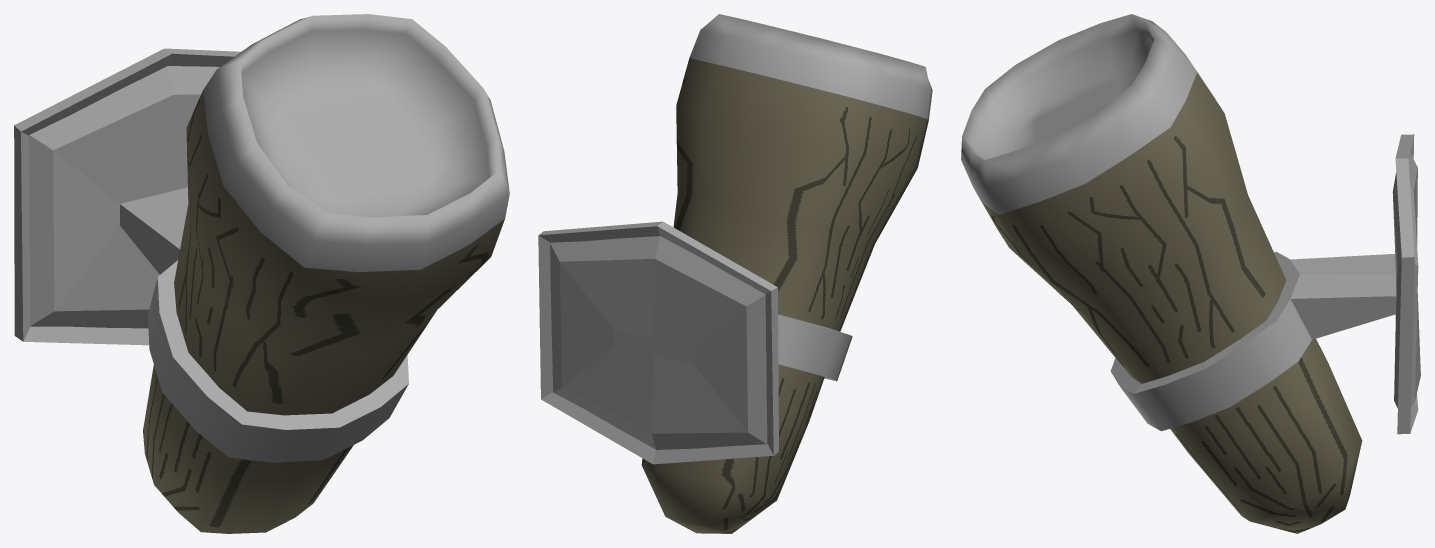
File: TorchWallMounted.FBX
3 renders of one model, left to right at view 1: azimuth 30°, elevation 25°; view 2: azimuth 150°, elevation 25°; view 3: azimuth 270°, elevation 25°, orthographic. The views are drawn at different scales.
Parts seen in each view (by area): view 1: Box001; view 2: Box001; view 3: Box001.
Boxes of the visible parts, x1,y1,x2,y2 form: Box001: [14, 14, 509, 533]; Box001: [538, 14, 932, 533]; Box001: [961, 14, 1420, 533].
Bounding box in the file's own units: 14.61 × 27.08 × 23.17.
